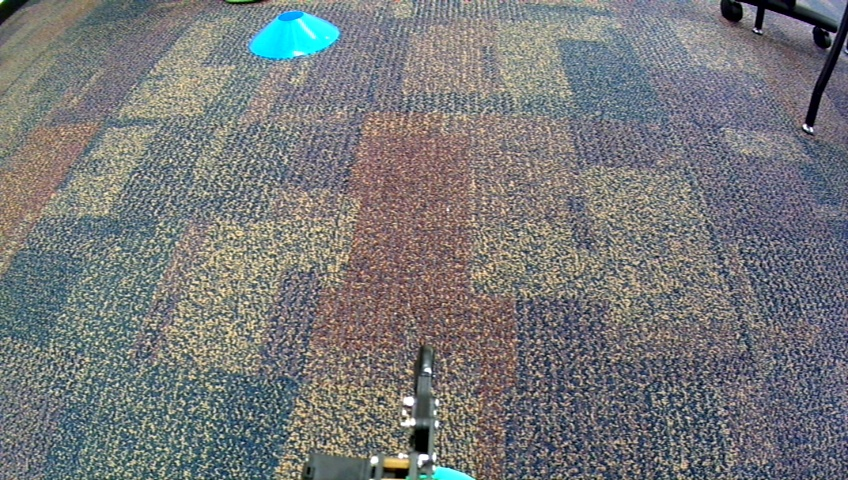cone: (247, 9, 341, 59)
